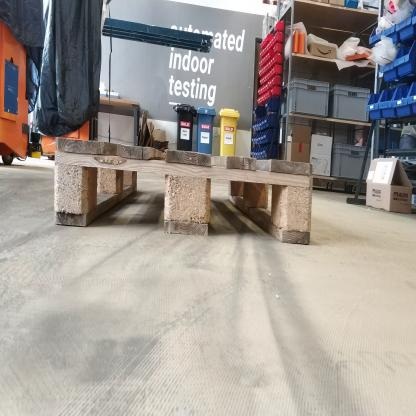BoxFace: (51, 133, 317, 251)
